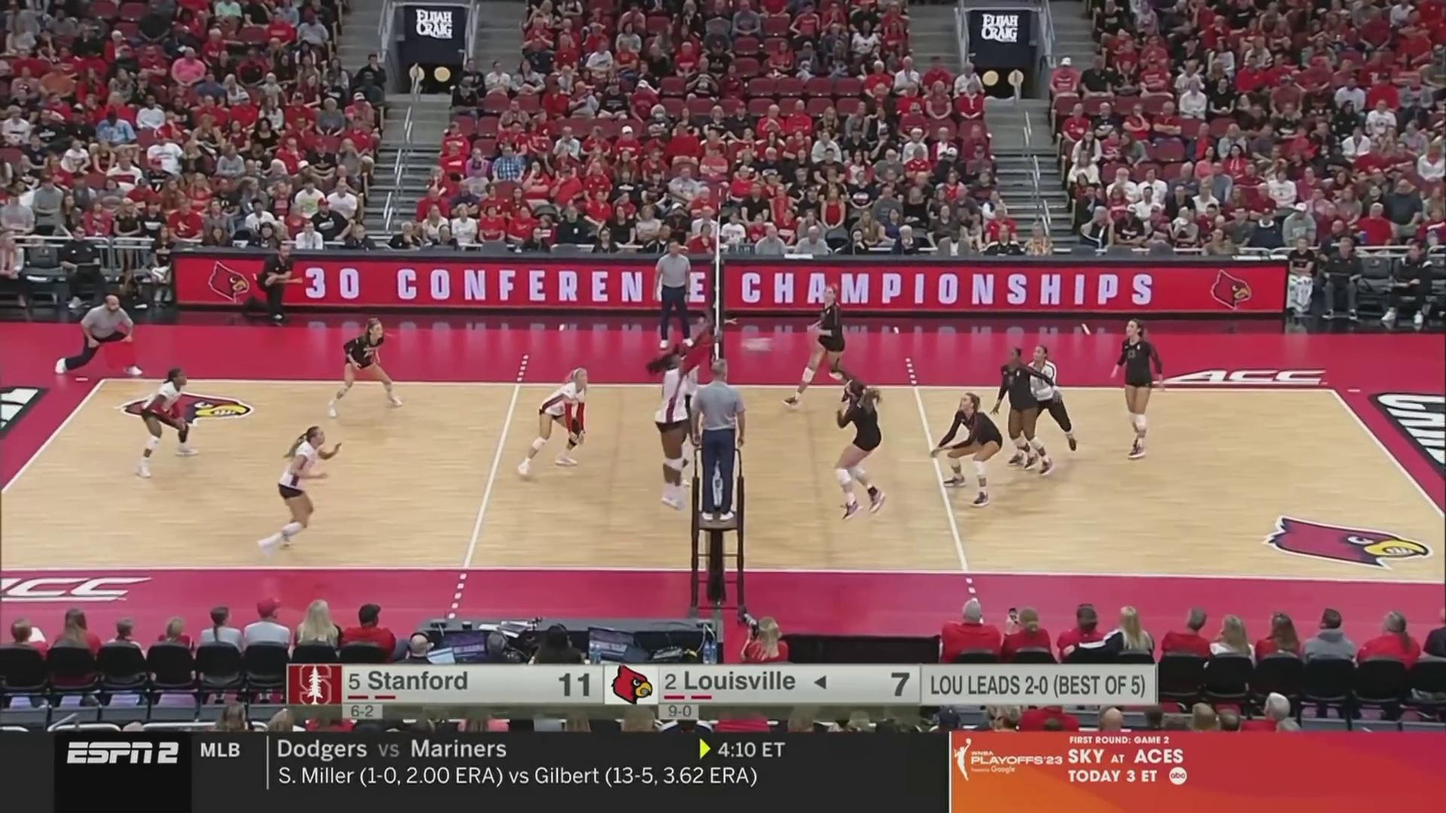player: (258, 427, 338, 552), (787, 285, 865, 410), (993, 346, 1061, 472), (1011, 346, 1081, 465), (516, 368, 592, 475), (656, 346, 706, 508), (931, 392, 1002, 504), (325, 322, 407, 414), (1114, 320, 1167, 459), (834, 380, 885, 518), (135, 369, 197, 477), (670, 333, 709, 489)
refree: (692, 360, 745, 523), (57, 293, 144, 379), (655, 241, 694, 348)
